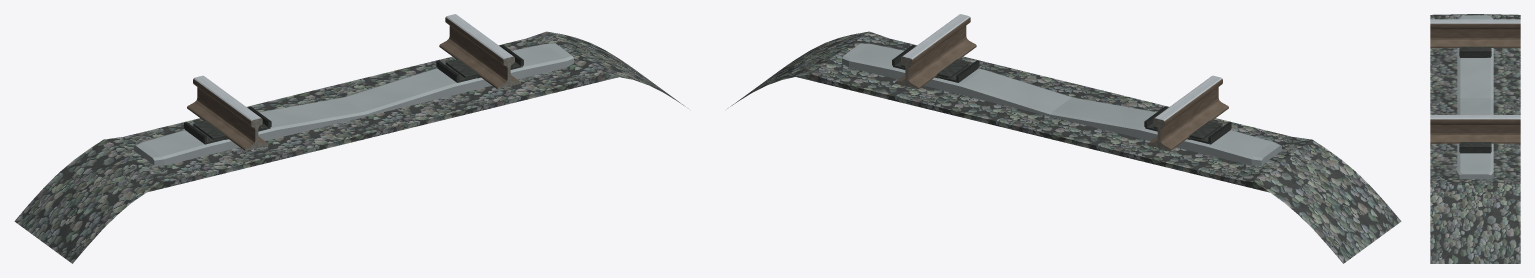
The model's file is rail_mid.obj.
3 views of the same model, side by side, from view 1: azimuth 30°, elevation 25°; view 2: azimuth 150°, elevation 25°; view 3: azimuth 270°, elevation 25° (orthographic). The views are drawn at different scales.
Parts seen in each view (by area): view 1: ballast, sleeper, rail_left, rail_right, fastener_left, fastener_right; view 2: ballast, sleeper, rail_left, rail_right, fastener_left, fastener_right; view 3: ballast, sleeper, rail_left, rail_right, fastener_right, fastener_left.
Boxes of the visible parts, left/top/right/bottom form: ballast: left=14, top=31, right=688, bottom=263; sleeper: left=134, top=43, right=573, bottom=165; rail_left: left=187, top=75, right=266, bottom=150; rail_right: left=439, top=14, right=519, bottom=88; fastener_left: left=184, top=106, right=271, bottom=144; fastener_right: left=436, top=45, right=523, bottom=82; ballast: left=727, top=31, right=1401, bottom=263; sleeper: left=842, top=43, right=1281, bottom=165; rail_left: left=1149, top=75, right=1228, bottom=150; rail_right: left=896, top=14, right=976, bottom=88; fastener_left: left=1144, top=106, right=1231, bottom=144; fastener_right: left=892, top=45, right=979, bottom=82; ballast: left=1430, top=14, right=1520, bottom=263; sleeper: left=1457, top=15, right=1493, bottom=179; rail_left: left=1430, top=19, right=1520, bottom=47; rail_right: left=1430, top=115, right=1520, bottom=143; fastener_right: left=1459, top=142, right=1491, bottom=153; fastener_left: left=1459, top=46, right=1491, bottom=57.
Size of the model in its own units: 3.7 by 0.5683 by 0.6.
